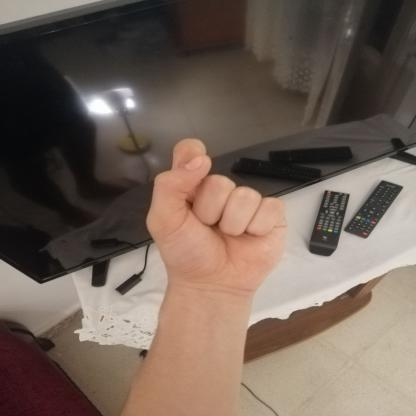FAA: (130, 130, 298, 302)
